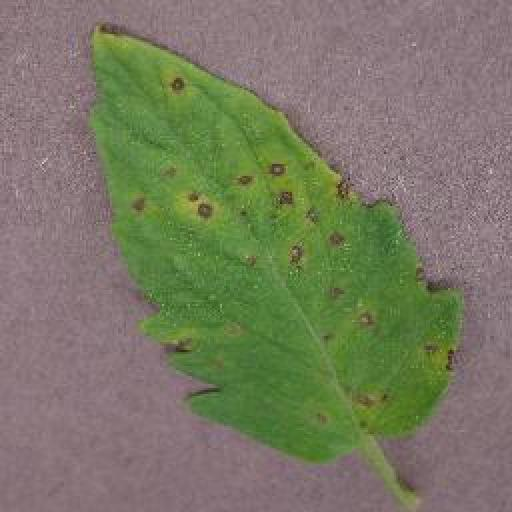Septoria: (91, 24, 463, 464)
